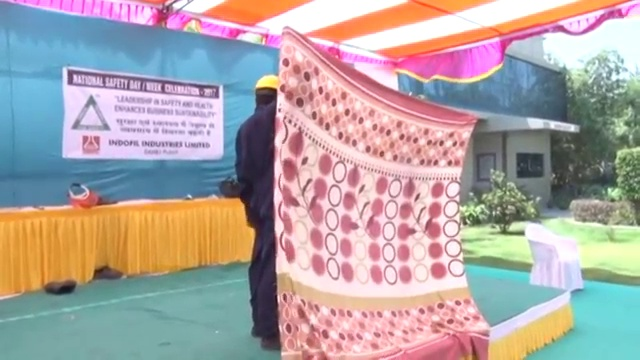helmet: (253, 72, 280, 93)
helmet_on: (253, 72, 280, 110)
person: (234, 71, 284, 352)
